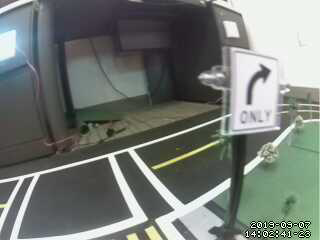Right_only_sign: (223, 44, 283, 133)
